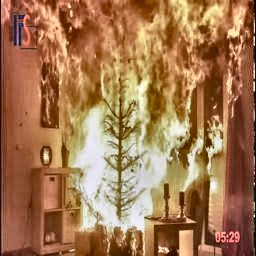fire: (3, 1, 253, 231)
